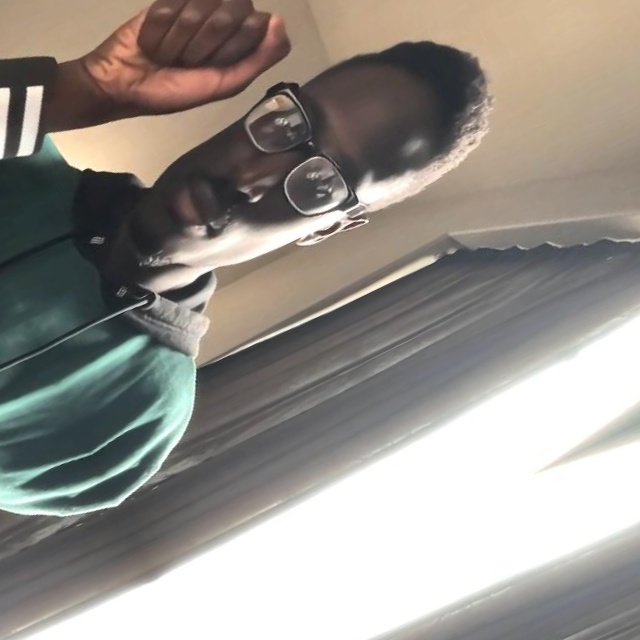Rock: (67, 0, 305, 151)
